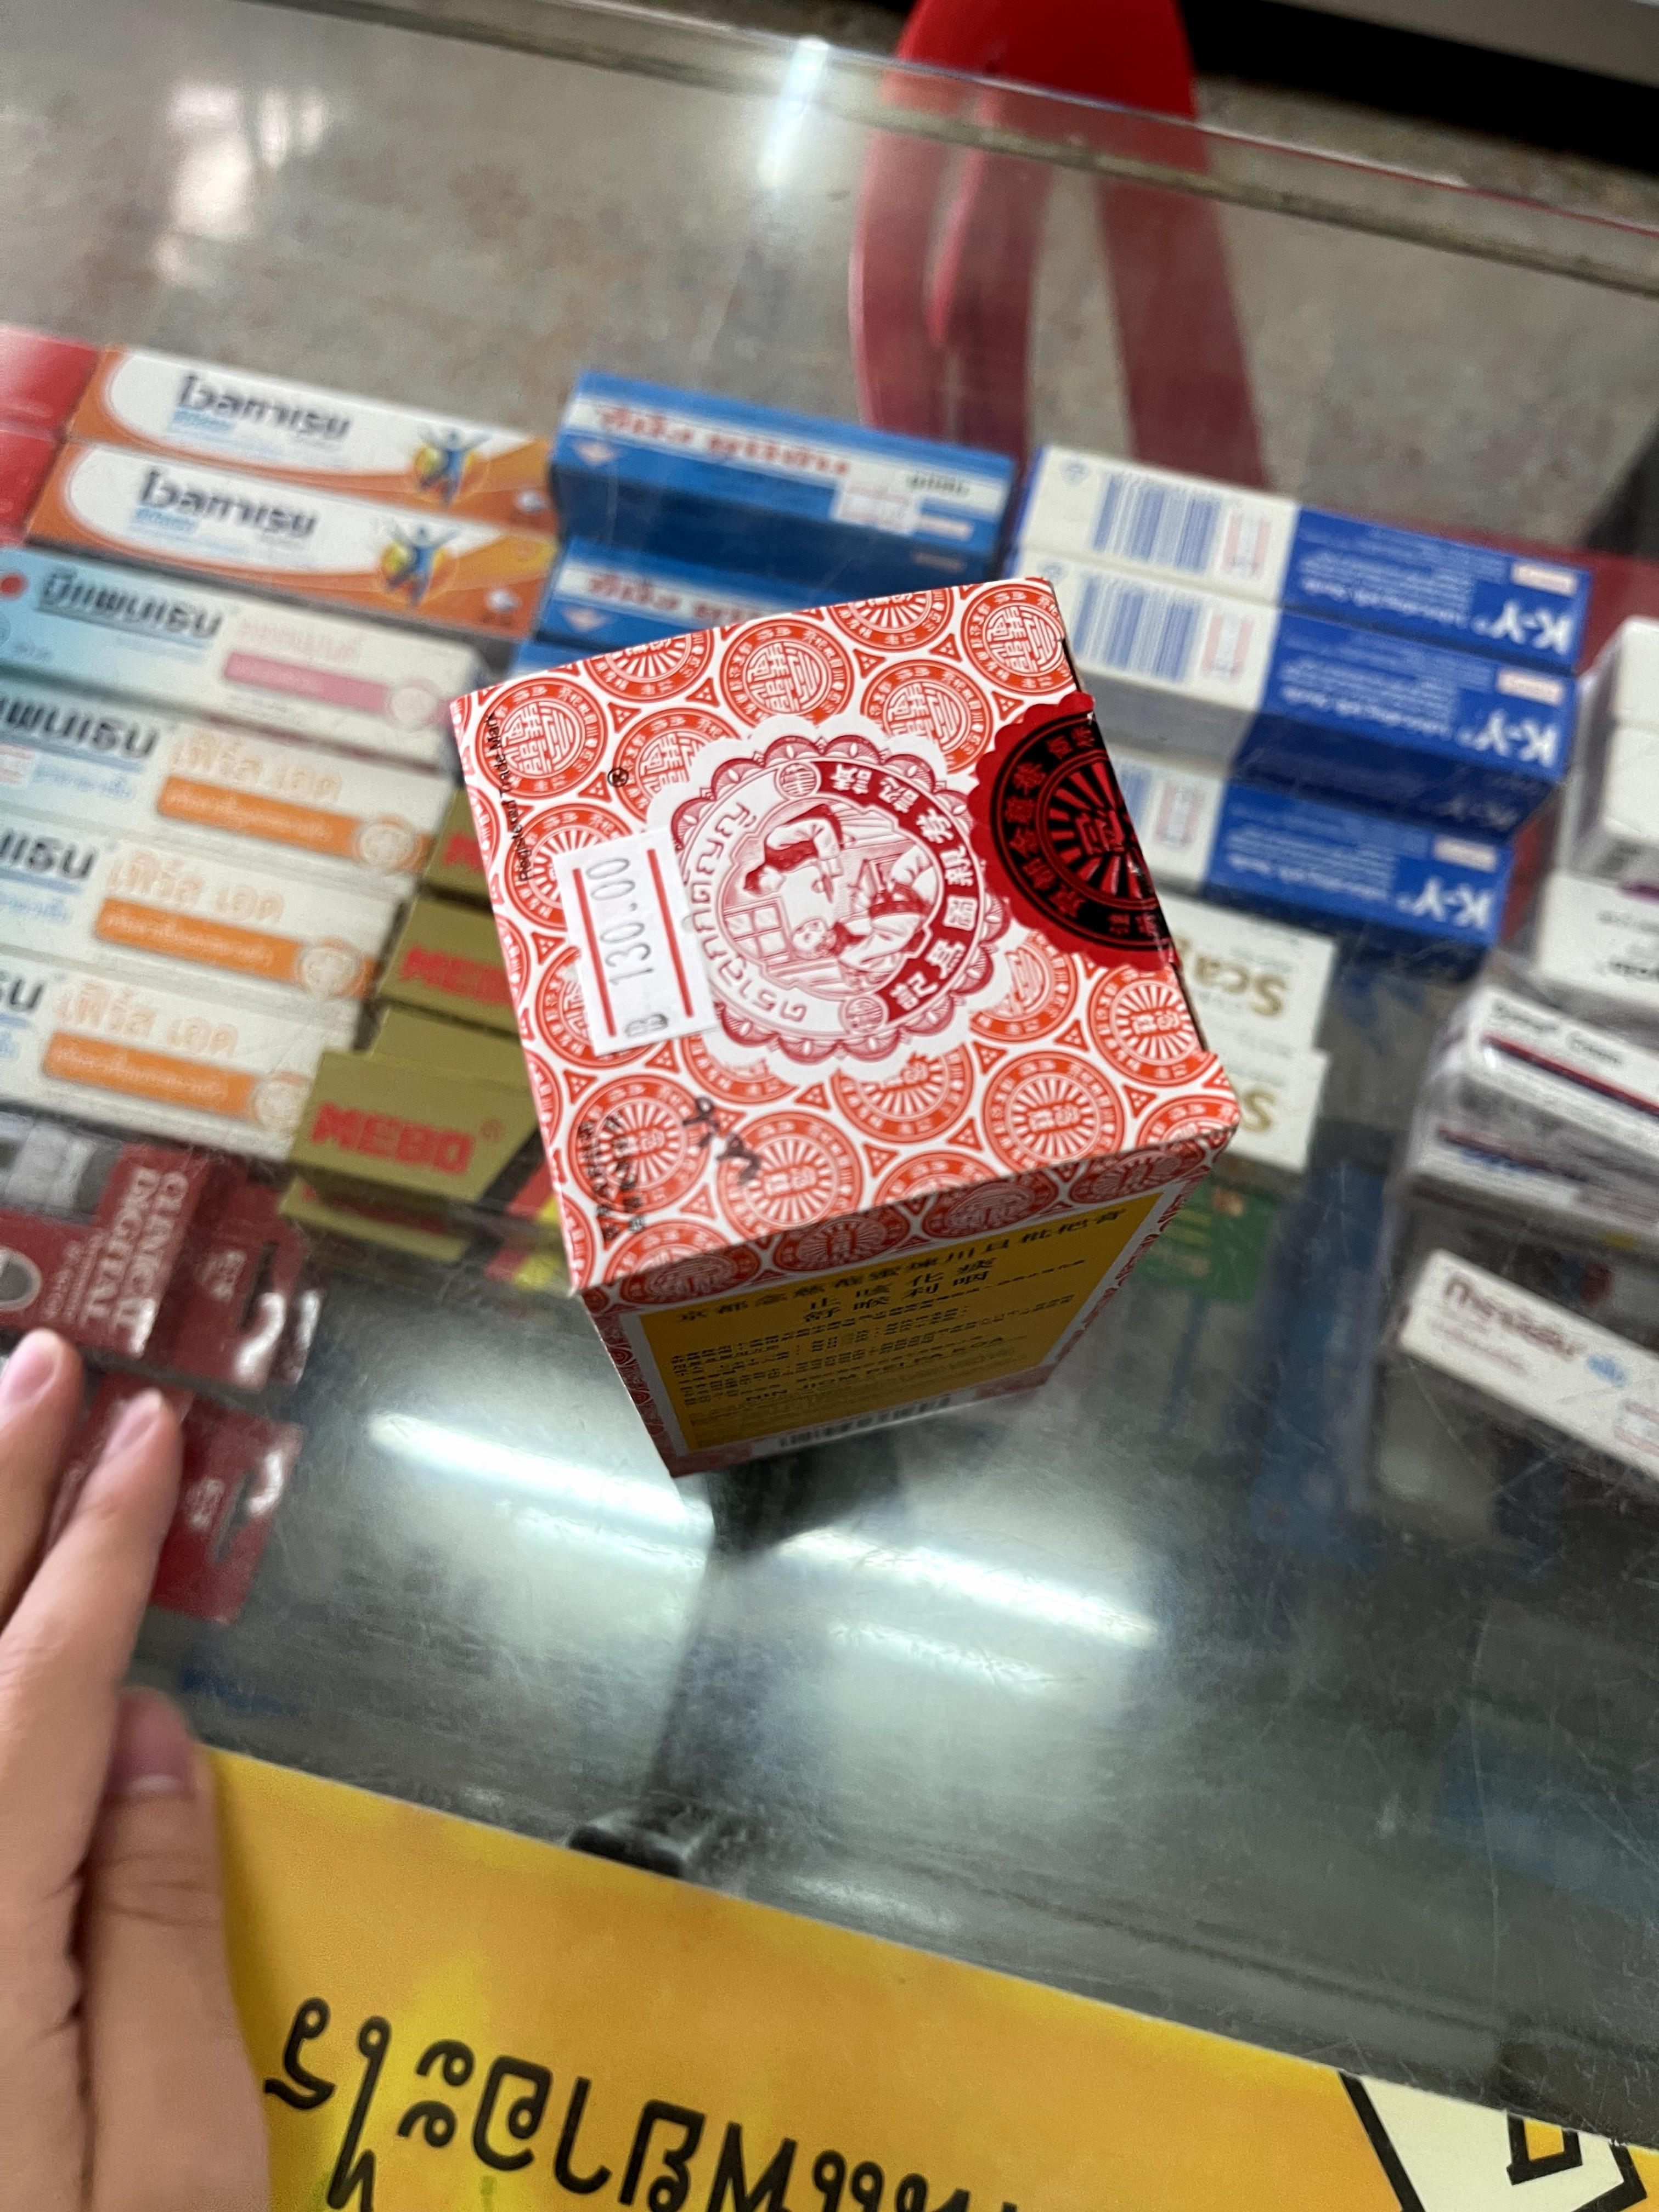Pei-Pa-Koa_Big: (453, 582, 1223, 1475)
